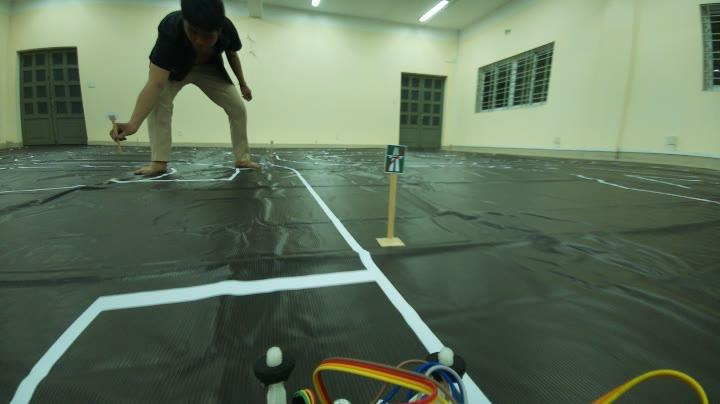highway_exit: (378, 139, 415, 186)
